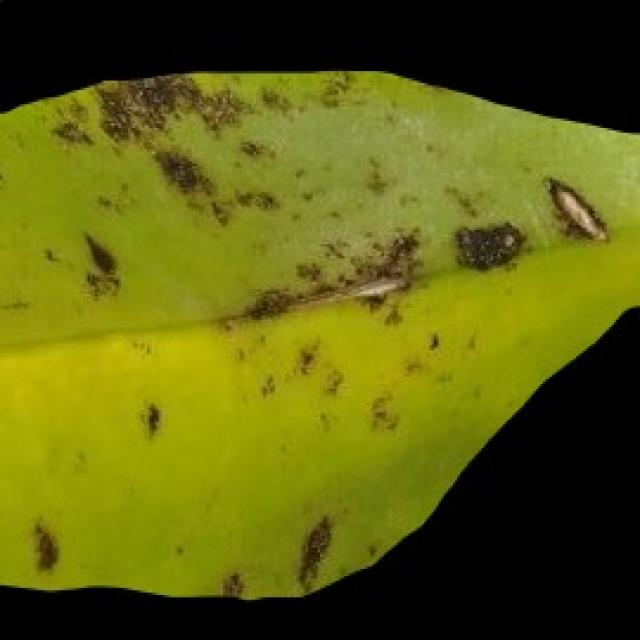mite: (446, 171, 612, 273), (453, 218, 524, 268), (81, 230, 116, 275)
spots: (0, 66, 638, 600)
